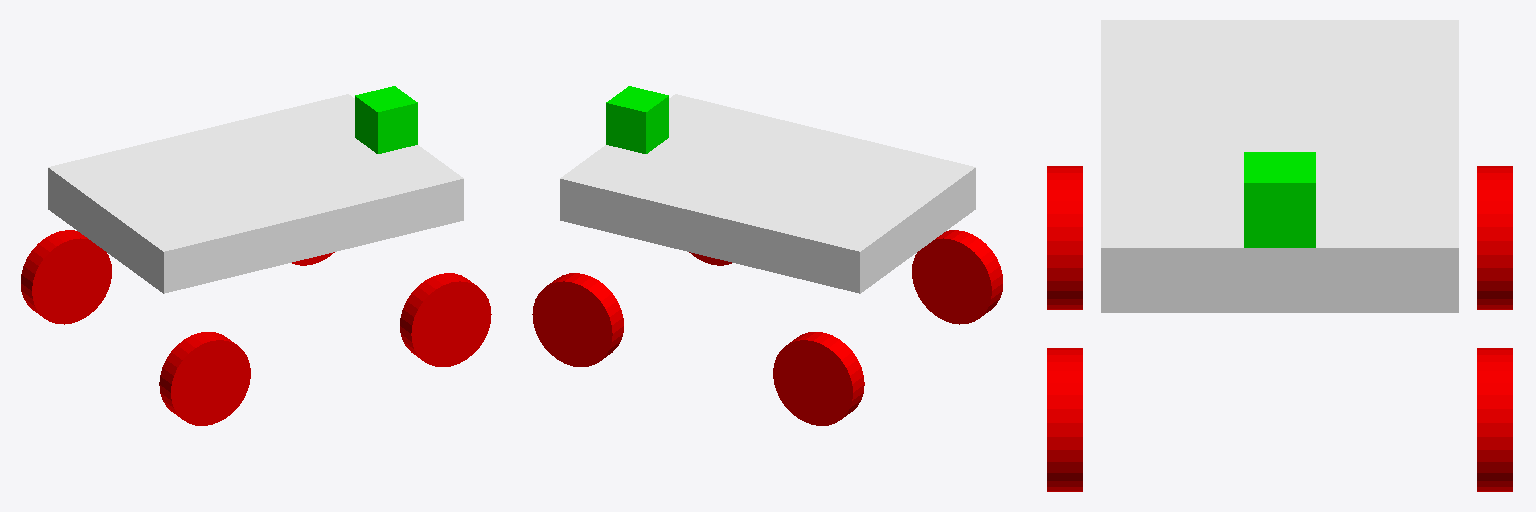
The robot description file, URDF, robot "veerbhadra":
<?xml version="1.0" ?>
<!-- =================================================================================== -->
<!-- |    This document was autogenerated by xacro from sample.xacro                   | -->
<!-- |    EDITING THIS FILE BY HAND IS NOT RECOMMENDED                                 | -->
<!-- =================================================================================== -->
<robot name="veerbhadra" xmlns:controller="http://playerstage.sourceforge.net/gazebo/xmlschema/#controller" xmlns:interface="http://playerstage.sourceforge.net/gazebo/xmlschema/#interface" xmlns:sensor="http://playerstage.sourceforge.net/gazebo/xmlschema/#sensor" xmlns:xacro="http://www.ros.org/wiki/xacro">
  <!-- The Frame and its Joint with the World -->
  <link name="base">
    <visual>
      <origin xyz="0 0 0"/>
      <geometry>
        <box size="1.5 1.0 0.2"/>
      </geometry>
      <material name="white">
        <color rgba="1 1 1 1"/>
      </material>
    </visual>
    <collision>
      <origin xyz="0 0 0"/>
      <geometry>
        <box size="1.5 1.0 0.2"/>
      </geometry>
    </collision>
    <inertial>
      <origin xyz="0 0 0"/>
      <mass value="1.0"/>
      <inertia ixx="1.0" ixy="0.0" ixz="0.0" iyy="1.0" iyz="0.0" izz="1.0"/>
    </inertial>
  </link>
  <gazebo reference="base">
    <material>Gazebo/White</material>
  </gazebo>
  <!-- The Head and its Joint with the Frame -->
  <link name="head">
    <visual>
      <origin xyz="0 0 0.1"/>
      <geometry>
        <box size="0.2 0.2 0.2"/>
      </geometry>
      <material name="green">
        <color rgba="0 1 0 1"/>
      </material>
    </visual>
    <collision>
      <origin xyz="0 0 0.1"/>
      <geometry>
        <box size="0.2 0.2 0.2"/>
      </geometry>
    </collision>
    <inertial>
      <origin xyz="0 0 0.1"/>
      <mass value="1.0"/>
      <inertia ixx="1.0" ixy="0.0" ixz="0.0" iyy="1.0" iyz="0.0" izz="1.0"/>
    </inertial>
  </link>
  <joint name="head_joint" type="fixed">
    <origin xyz="0.65 0 0.1"/>
    <parent link="base"/>
    <child link="head"/>
  </joint>
  <gazebo reference="head">
    <material>Gazebo/Green</material>
  </gazebo>
  <!-- The Wheel macro -->
  <!-- use the Wheel xacro to create the wheels -->
  <link name="lf_link">
    <visual>
      <origin rpy="1.57075 0 0" xyz="0 0 0"/>
      <geometry>
        <cylinder length="0.1" radius="0.2"/>
      </geometry>
      <material name="red">
        <color rgba="1 0 0 1"/>
      </material>
    </visual>
    <collision>
      <origin rpy="1.57075 0 0" xyz="0 0 0"/>
      <geometry>
        <cylinder length="0.1" radius="0.2"/>
      </geometry>
    </collision>
    <inertial>
      <mass value="1.0"/>
      <inertia ixx="1.0" ixy="0.0" ixz="0.0" iyy="1.0" iyz="0.0" izz="1.0"/>
    </inertial>
  </link>
  <gazebo reference="lf_link">
    <material>Gazebo/Red</material>
    <mu1 value="1.0"/>
    <mu2 value="1.0"/>
  </gazebo>
  <joint name="lf_joint" type="continuous">
    <axis xyz="0 1 0"/>
    <origin xyz="0.6 0.6 -0.5"/>
    <parent link="base"/>
    <child link="lf_link"/>
  </joint>
  <link name="lb_link">
    <visual>
      <origin rpy="1.57075 0 0" xyz="0 0 0"/>
      <geometry>
        <cylinder length="0.1" radius="0.2"/>
      </geometry>
      <material name="red">
        <color rgba="1 0 0 1"/>
      </material>
    </visual>
    <collision>
      <origin rpy="1.57075 0 0" xyz="0 0 0"/>
      <geometry>
        <cylinder length="0.1" radius="0.2"/>
      </geometry>
    </collision>
    <inertial>
      <mass value="1.0"/>
      <inertia ixx="1.0" ixy="0.0" ixz="0.0" iyy="1.0" iyz="0.0" izz="1.0"/>
    </inertial>
  </link>
  <gazebo reference="lb_link">
    <material>Gazebo/Red</material>
    <mu1 value="1.0"/>
    <mu2 value="1.0"/>
  </gazebo>
  <joint name="lb_joint" type="continuous">
    <axis xyz="0 1 0"/>
    <origin xyz="-0.6 0.6 -0.5"/>
    <parent link="base"/>
    <child link="lb_link"/>
  </joint>
  <link name="rf_link">
    <visual>
      <origin rpy="1.57075 0 0" xyz="0 0 0"/>
      <geometry>
        <cylinder length="0.1" radius="0.2"/>
      </geometry>
      <material name="red">
        <color rgba="1 0 0 1"/>
      </material>
    </visual>
    <collision>
      <origin rpy="1.57075 0 0" xyz="0 0 0"/>
      <geometry>
        <cylinder length="0.1" radius="0.2"/>
      </geometry>
    </collision>
    <inertial>
      <mass value="1.0"/>
      <inertia ixx="1.0" ixy="0.0" ixz="0.0" iyy="1.0" iyz="0.0" izz="1.0"/>
    </inertial>
  </link>
  <gazebo reference="rf_link">
    <material>Gazebo/Red</material>
    <mu1 value="1.0"/>
    <mu2 value="1.0"/>
  </gazebo>
  <joint name="rf_joint" type="continuous">
    <axis xyz="0 1 0"/>
    <origin xyz="0.6 -0.6 -0.5"/>
    <parent link="base"/>
    <child link="rf_link"/>
  </joint>
  <link name="rb_link">
    <visual>
      <origin rpy="1.57075 0 0" xyz="0 0 0"/>
      <geometry>
        <cylinder length="0.1" radius="0.2"/>
      </geometry>
      <material name="red">
        <color rgba="1 0 0 1"/>
      </material>
    </visual>
    <collision>
      <origin rpy="1.57075 0 0" xyz="0 0 0"/>
      <geometry>
        <cylinder length="0.1" radius="0.2"/>
      </geometry>
    </collision>
    <inertial>
      <mass value="1.0"/>
      <inertia ixx="1.0" ixy="0.0" ixz="0.0" iyy="1.0" iyz="0.0" izz="1.0"/>
    </inertial>
  </link>
  <gazebo reference="rb_link">
    <material>Gazebo/Red</material>
    <mu1 value="1.0"/>
    <mu2 value="1.0"/>
  </gazebo>
  <joint name="rb_joint" type="continuous">
    <axis xyz="0 1 0"/>
    <origin xyz="-0.6 -0.6 -0.5"/>
    <parent link="base"/>
    <child link="rb_link"/>
  </joint>
  <gazebo>
    <controller:diffdrive_plugin name="differential_drive_controller" plugin="libdiffdrive_plugin.so">
      <alwaysOn>true</alwaysOn>
      <update>100</update>
      <updateRate>100.0</updateRate>
      <leftJoint>lb_joint</leftJoint>
      <rightJoint>rb_joint</rightJoint>
      <wheelSeparation>0.6</wheelSeparation>
      <wheelDiameter>0.4</wheelDiameter>
      <torque>5</torque>
      <interface:position name="auv"/>
      <topicName>cmd_vel</topicName>
    </controller:diffdrive_plugin>
    <controller:gazebo_ros_controller_manager name="gazebo_ros_controller_manager" plugin="libgazebo_ros_controller_manager.so">
      <alwaysOn>true</alwaysOn>
      <updateRate>100.0</updateRate>
      <interface:audio name="gazebo_ros_controller_manager_dummy_iface"/>
    </controller:gazebo_ros_controller_manager>
  </gazebo>
</robot>

--- Facts derived from the render (not from the file) ---
The picture shows the robot from 3 angles, left to right: view 1: azimuth 30°, elevation 25°; view 2: azimuth 150°, elevation 25°; view 3: azimuth 270°, elevation 25°; orthographic projection.
Robot: veerbhadra — 6 links, 5 joints (4 continuous, 1 fixed); root link base; default pose: every joint at zero.
Links seen in each view (by area): view 1: base, rb_link, rf_link, lb_link, head; view 2: base, lb_link, lf_link, rb_link, head; view 3: base, head, lf_link, lb_link, rf_link, rb_link.
Link boxes in pixels (<box>): base: <box>48,94,463,293</box>; rb_link: <box>159,332,250,425</box>; rf_link: <box>400,273,491,366</box>; lb_link: <box>21,230,111,324</box>; head: <box>355,86,417,153</box>; base: <box>560,94,975,293</box>; lb_link: <box>773,332,864,425</box>; lf_link: <box>532,273,623,366</box>; rb_link: <box>912,230,1002,324</box>; head: <box>606,86,668,153</box>; base: <box>1101,20,1458,312</box>; head: <box>1244,152,1315,247</box>; lf_link: <box>1477,348,1512,491</box>; lb_link: <box>1477,166,1512,309</box>; rf_link: <box>1047,348,1082,491</box>; rb_link: <box>1047,166,1082,309</box>.
Bounding box of the posed robot: 1.6 × 1.3 × 1 m (x, y, z).
Geometry: primitives only (box / cylinder / sphere), no mesh files.
